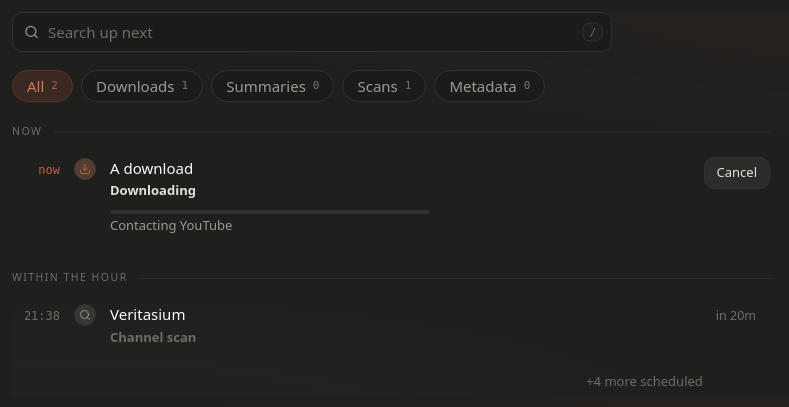
Scenario: UpNext filters › drops the truncation hint once the filter narrows
Expected: the text "+4 more scheduled" is shown, 586,372 -> 703,390
Click the button "Downloads 1": (142, 86) 81,70 -> 203,102
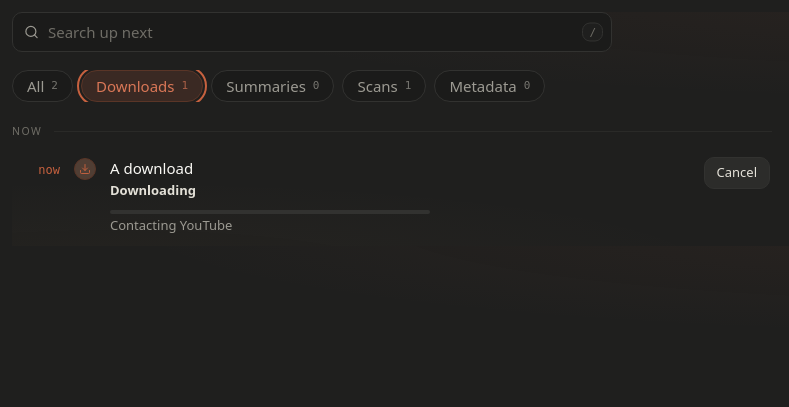
Expected: the text "+4 more scheduled" is gone
